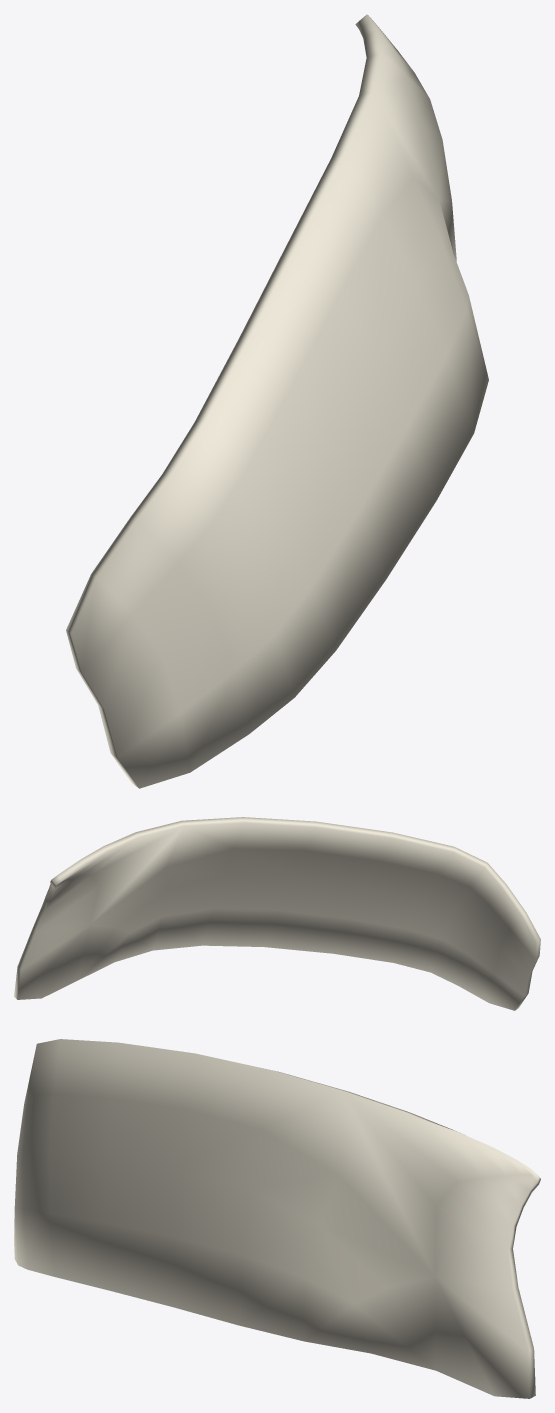
3 renders of one model, top to bottom at view 1: azimuth 30°, elevation 25°; view 2: azimuth 150°, elevation 25°; view 3: azimuth 270°, elevation 25°, orthographic. The views are drawn at different scales.
Parts seen in each view (by area): view 1: ZA_ab5ea55870e2357a; view 2: ZA_ab5ea55870e2357a; view 3: ZA_ab5ea55870e2357a.
Part boxes in pixels (box(x1,y1,x2,y2)): ZA_ab5ea55870e2357a: box(66, 14, 488, 788); ZA_ab5ea55870e2357a: box(14, 817, 540, 1010); ZA_ab5ea55870e2357a: box(14, 1039, 540, 1398).
Bounding box in the file's own units: 0.0269 × 0.0152 × 0.0229.
